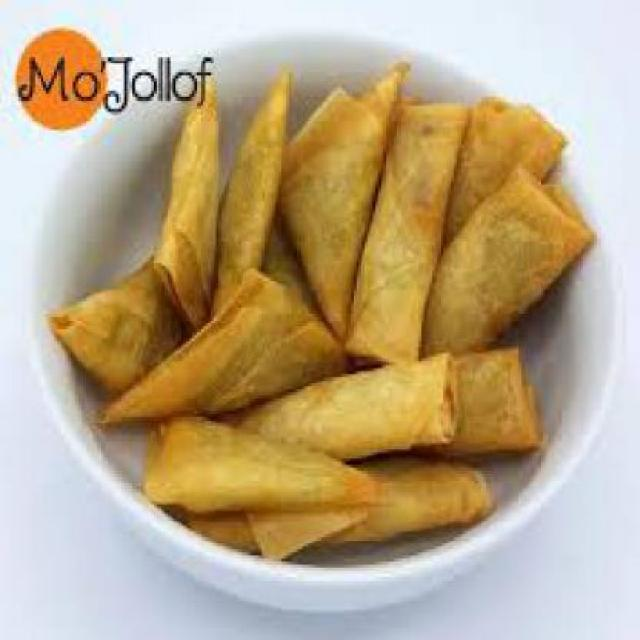samosa: (54, 70, 381, 552)
spring rolls: (383, 87, 565, 350), (278, 378, 552, 444)
